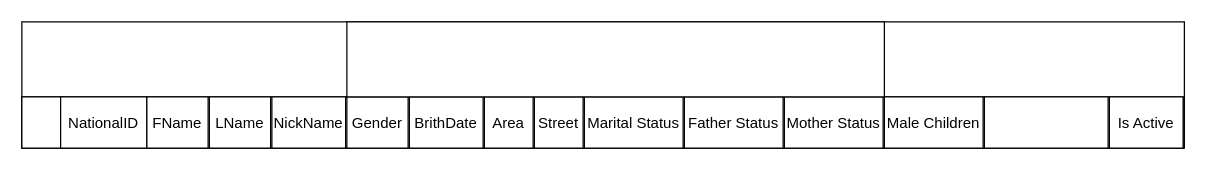
This 1206x170 diagram has some shape labels left out. Here are the shapes that lost their labels. From the top down, the centre of each, then its label:
At (615,59): "Cases".
At (42,122): "ID".
At (1045,122): "Female Children".
